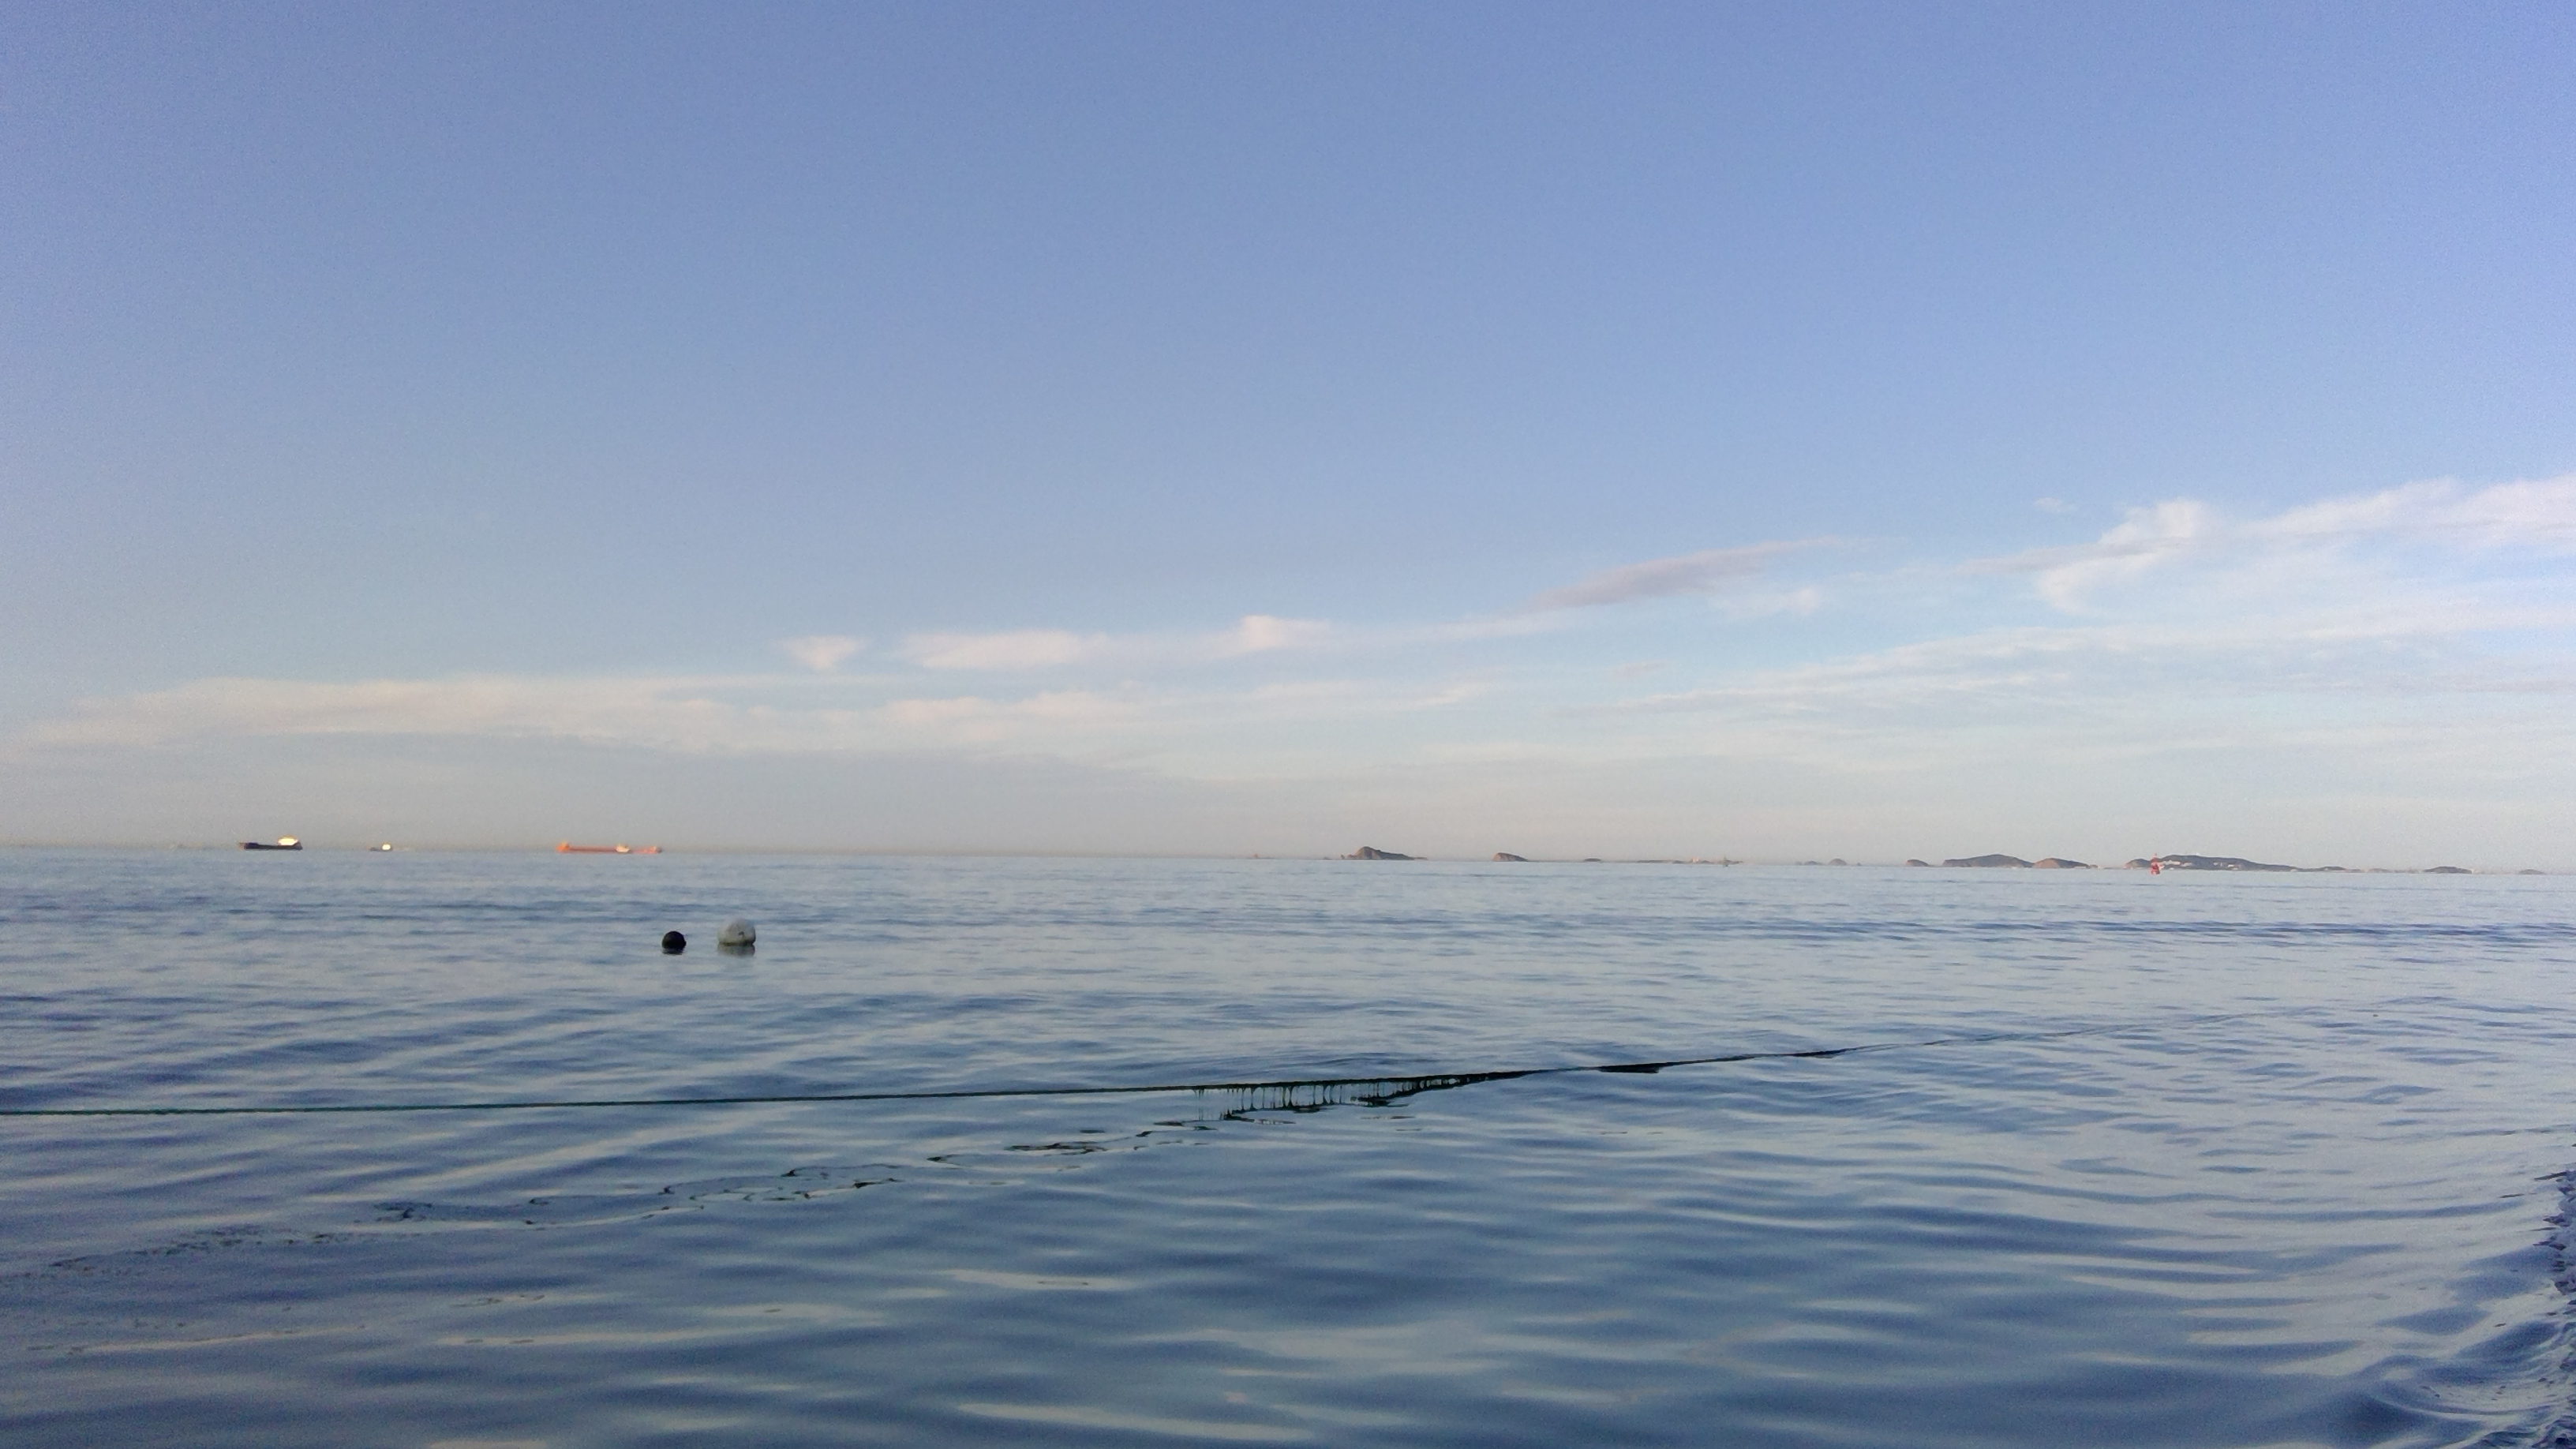ball: (718, 915, 763, 966), (651, 922, 692, 962)
buoy: (2137, 844, 2167, 888)
platform: (543, 828, 665, 870)
rock: (2127, 840, 2466, 879), (1897, 839, 2091, 870), (1346, 840, 1422, 872), (1481, 849, 1537, 879)
ship: (239, 823, 301, 862)
